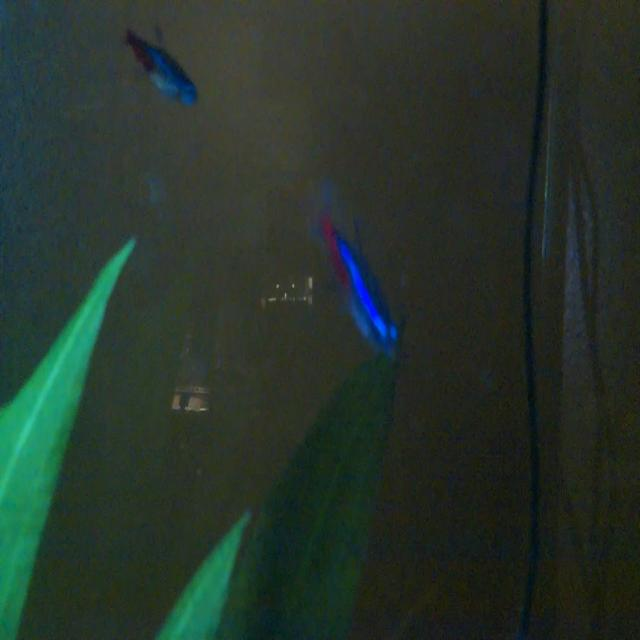fish: (302, 177, 407, 372), (114, 20, 207, 115)
